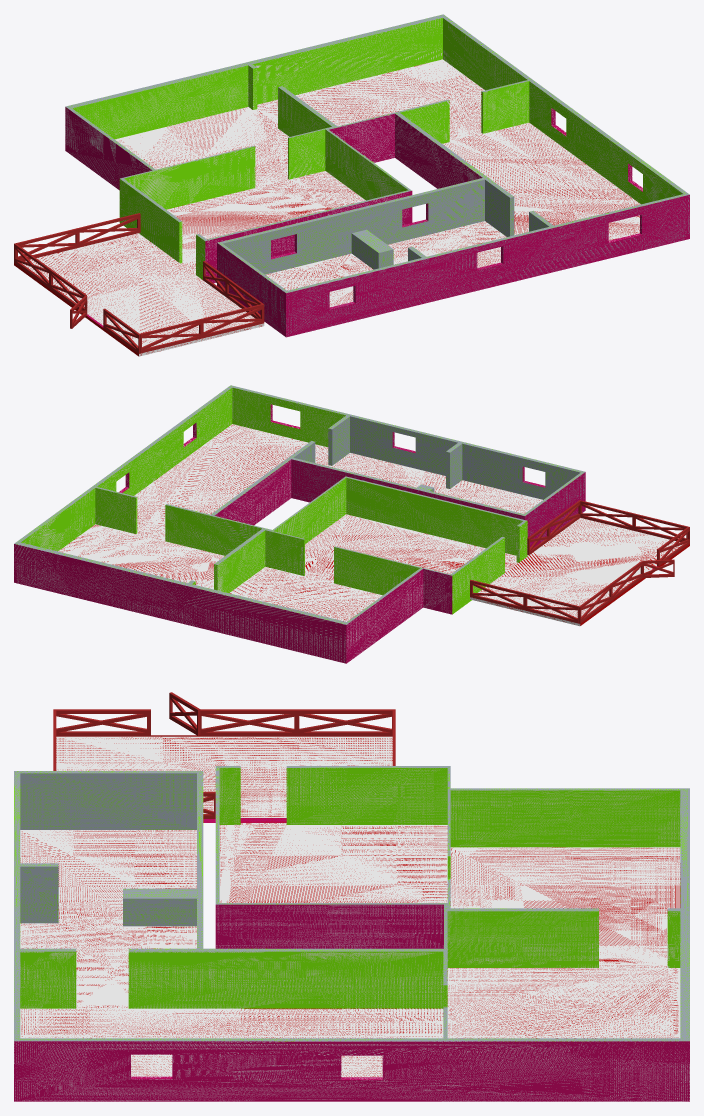
Rendered from House1.fbx.
3 views of the same model, one above another, from view 1: azimuth 30°, elevation 25°; view 2: azimuth 150°, elevation 25°; view 3: azimuth 270°, elevation 25° (orthographic). The views are drawn at different scales.
Parts seen in each view (by area): view 1: Model, fence1, fence2, fence3, fence4, fence7, fence5, fence6, fence8; view 2: Model, fence4, fence3, fence1, fence2, fence5, fence8, fence6, fence7, fence_1_1; view 3: Model, fence6, fence7, fence5, fence_1_1.
Part boxes in pixels (x1,y1,x2,y2): Model: [14, 14, 689, 356]; fence1: [202, 303, 264, 338]; fence2: [140, 318, 202, 353]; fence3: [78, 213, 140, 247]; fence4: [16, 228, 78, 260]; fence7: [103, 308, 140, 353]; fence5: [14, 243, 50, 288]; fence6: [49, 269, 86, 310]; fence8: [225, 277, 262, 318]; Model: [14, 385, 689, 663]; fence4: [524, 593, 578, 623]; fence3: [470, 580, 524, 609]; fence1: [579, 500, 633, 530]; fence2: [633, 513, 687, 541]; fence5: [578, 584, 611, 623]; fence8: [548, 501, 580, 540]; fence6: [610, 561, 642, 600]; fence7: [657, 526, 689, 566]; fence_1_1: [642, 559, 674, 577]; Model: [14, 735, 689, 1101]; fence6: [200, 709, 297, 736]; fence7: [53, 709, 150, 736]; fence5: [298, 709, 395, 736]; fence_1_1: [169, 692, 200, 735].
Bounding box in the file's own units: 80.06 × 6.01 × 60.78.
